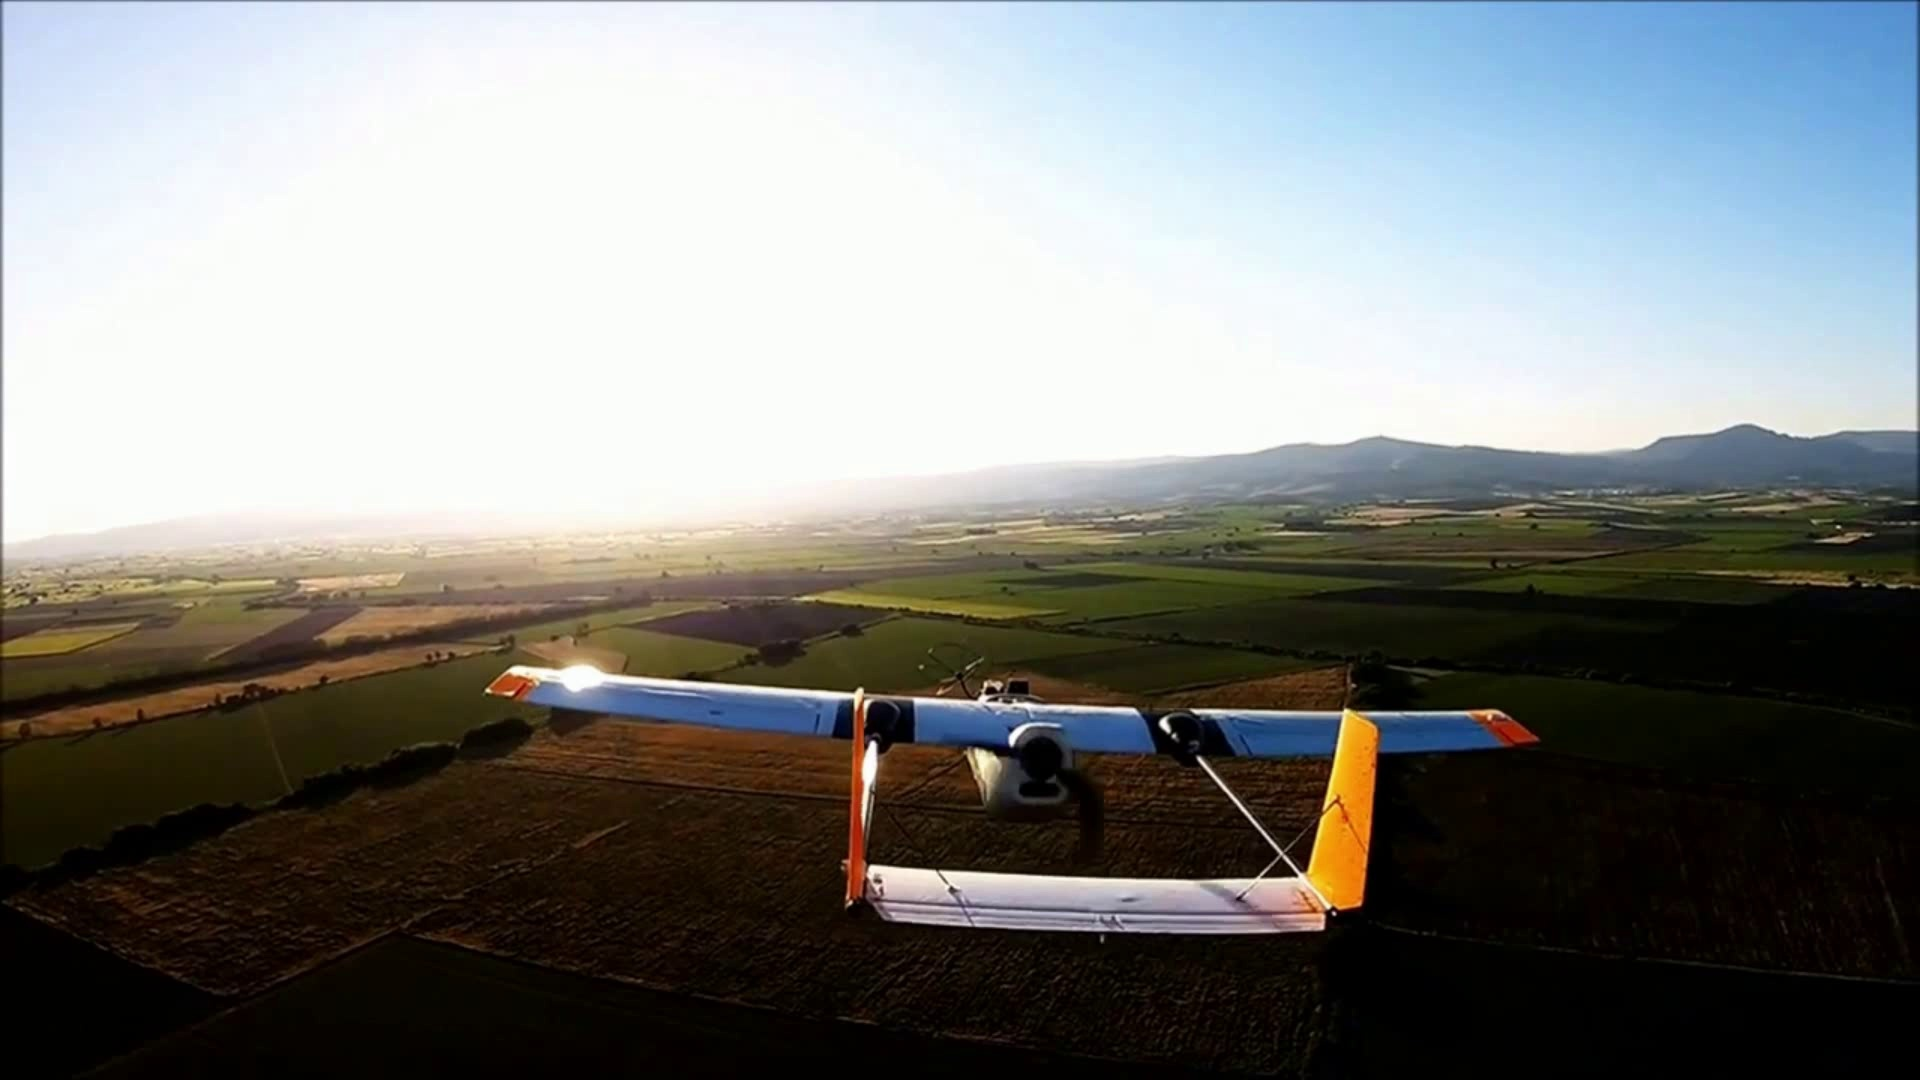airplane: (485, 663, 1540, 938)
